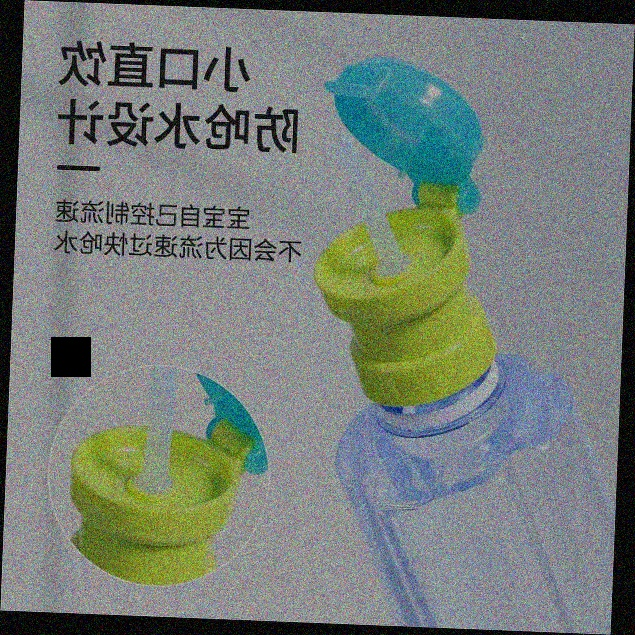bottle: (309, 303, 617, 629)
